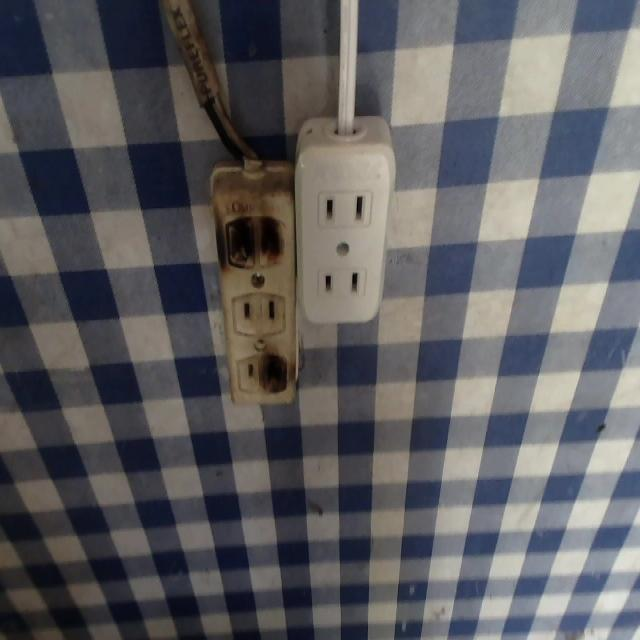-: (222, 216, 291, 271), (257, 351, 290, 392)
